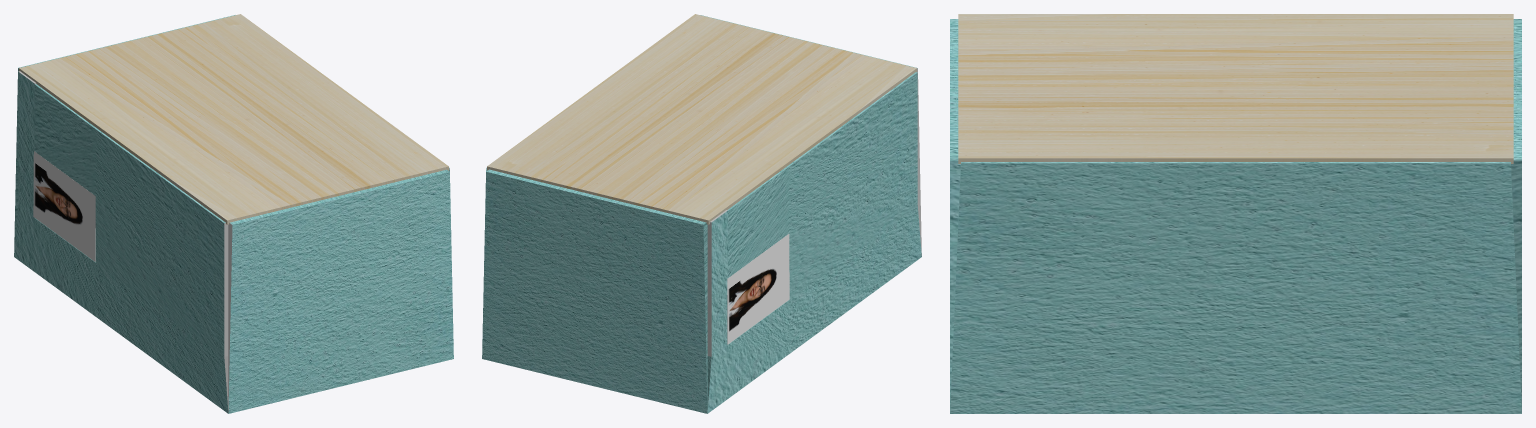
Rendered from room.obj.
The picture shows the model from 3 angles, left to right: view 1: azimuth 30°, elevation 25°; view 2: azimuth 150°, elevation 25°; view 3: azimuth 270°, elevation 25°; orthographic projection. The views are drawn at different scales.
Parts seen in each view (by area): view 1: room_Plane, tetto_Plane.003, foto_Plane.001; view 2: room_Plane, tetto_Plane.003, foto_Plane.001; view 3: room_Plane, tetto_Plane.003.
Boxes of the visible parts, bbox=[...] form: room_Plane: bbox=[14, 15, 453, 413]; tetto_Plane.003: bbox=[19, 14, 448, 224]; foto_Plane.001: bbox=[33, 151, 95, 261]; room_Plane: bbox=[482, 15, 921, 413]; tetto_Plane.003: bbox=[487, 14, 916, 224]; foto_Plane.001: bbox=[727, 234, 789, 344]; room_Plane: bbox=[950, 19, 1521, 413]; tetto_Plane.003: bbox=[958, 14, 1513, 163].
Size of the model in its own units: 11.19 by 9.03 by 18.39.
Materials: 8 (5 with a texture image).
